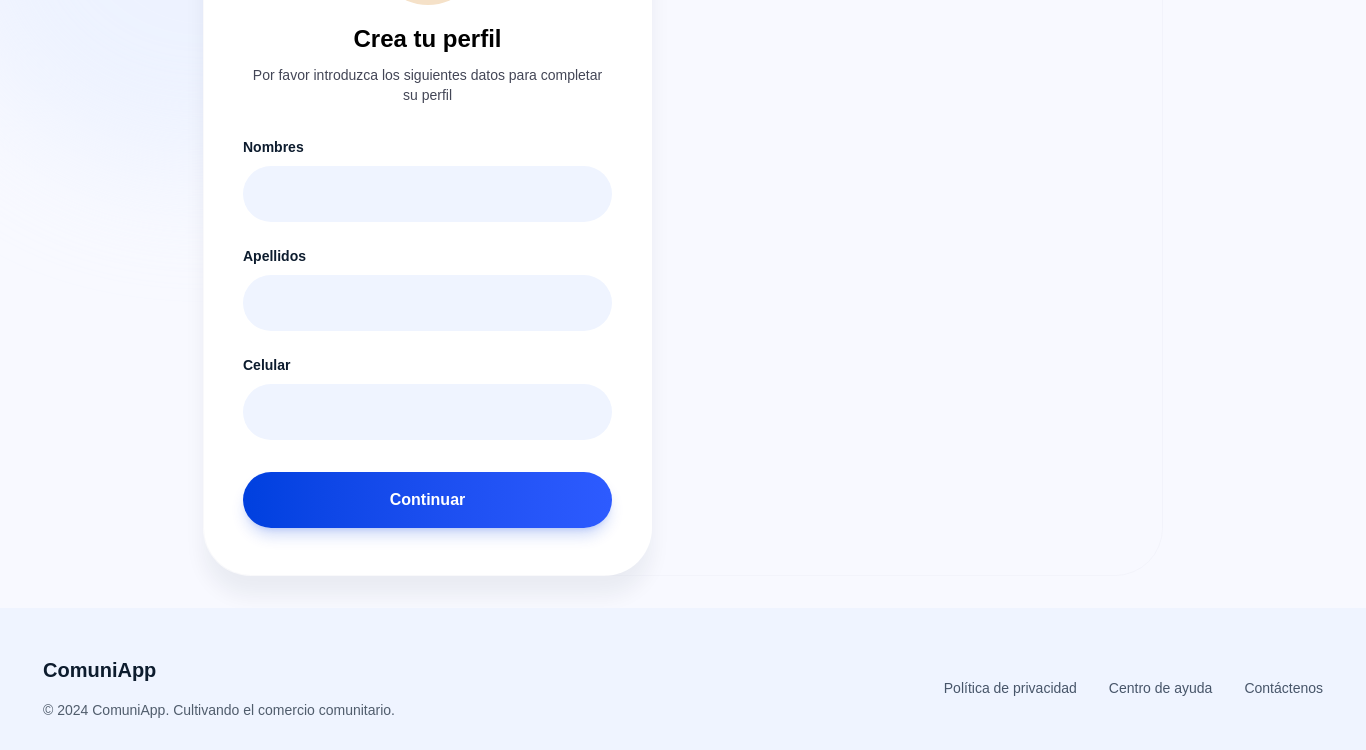
Test: CrearPerfilEmprendedor › muestra errores si el paso 1 está vacío
(page scrolled)
Click the button "Continuar". click: (428, 500)
box: [243,472,612,528]
(page scrolled)
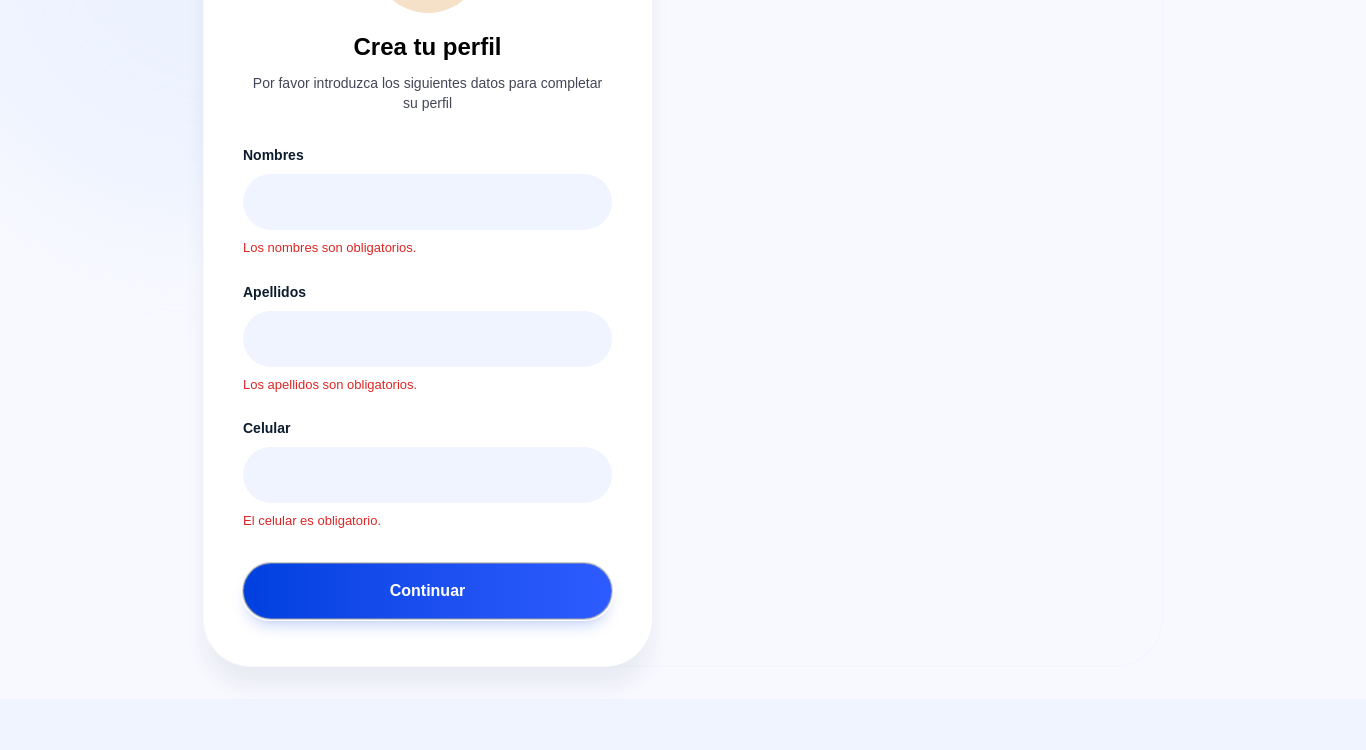
expect the text "Los nombres son obligatorios." is shown: met, box [243,240,416,255]
expect the text "Los apellidos son obligatorios." is shown: met, box [243,376,417,392]
expect the text "El celular es obligatorio." is shown: met, box [243,513,381,528]
